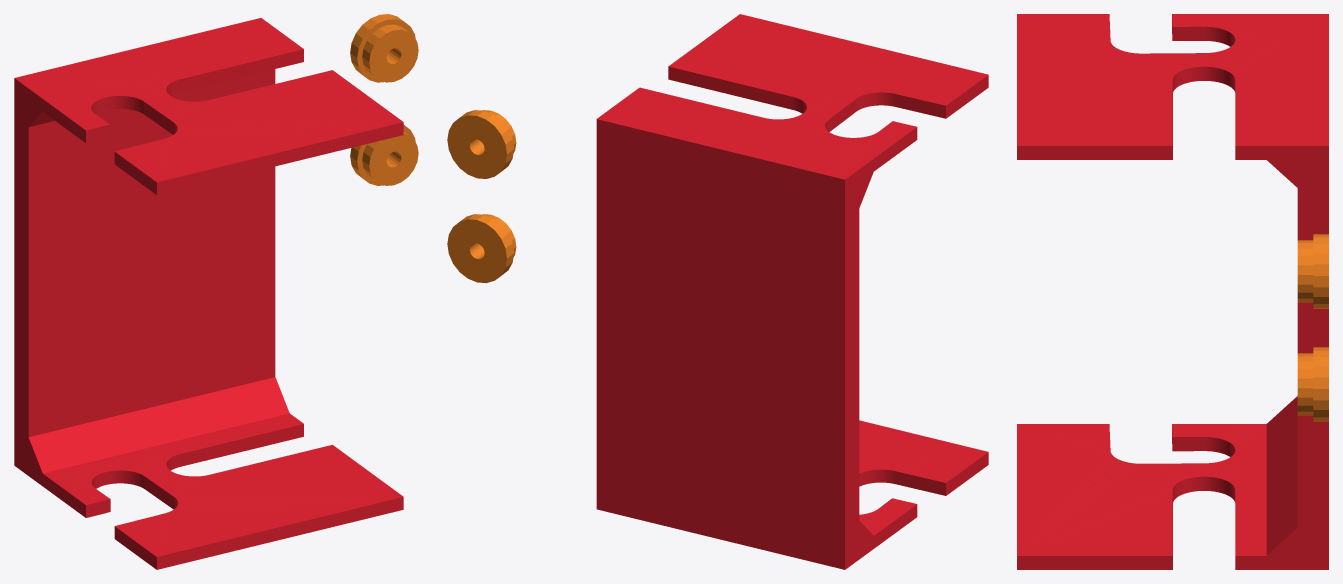
Rendered from tinker.obj.
3 renders of one model, left to right at view 1: azimuth 30°, elevation 25°; view 2: azimuth 150°, elevation 25°; view 3: azimuth 270°, elevation 25°, orthographic. The views are drawn at different scales.
Visible parts, largest first — view 1: group_0_15277357, group_0_16089887; view 2: group_0_15277357, group_0_16089887; view 3: group_0_15277357, group_0_16089887.
Boxes of the visible parts, x1,y1,x2,y2 form: group_0_15277357: (14, 18, 403, 569); group_0_16089887: (350, 14, 418, 185); group_0_15277357: (596, 14, 988, 569); group_0_16089887: (447, 110, 516, 283); group_0_15277357: (1017, 14, 1328, 569); group_0_16089887: (1297, 234, 1328, 421).
Bounding box in the file's own units: 160 × 150 × 100.
